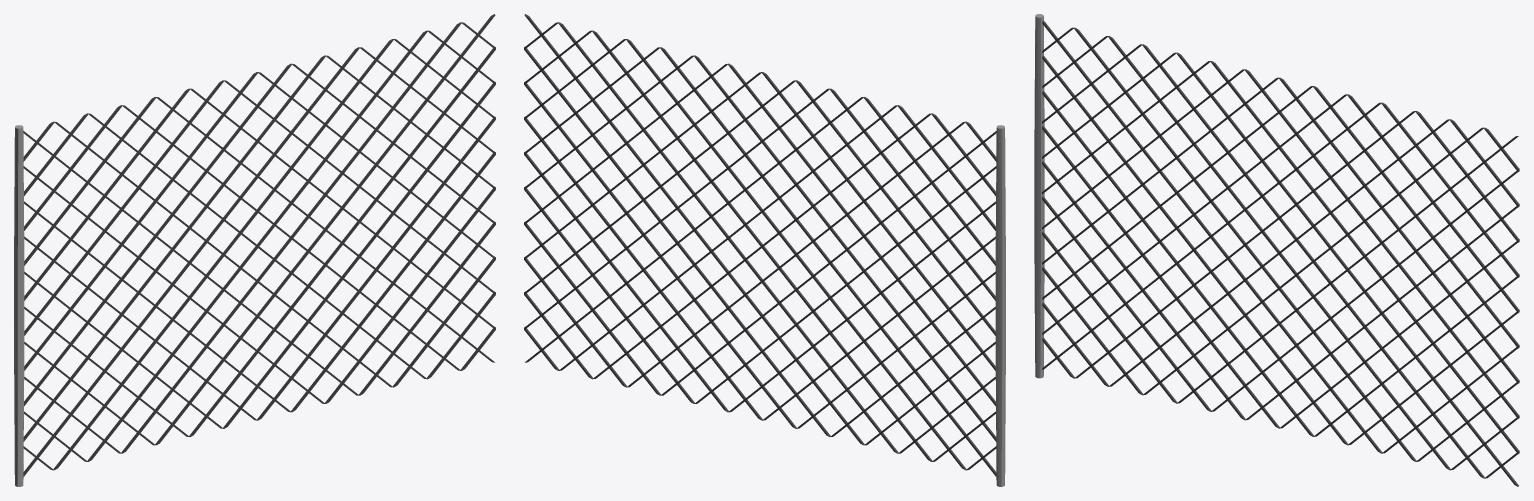
The model's file is fence_straight.fbx.
3 renders of one model, left to right at view 1: azimuth 30°, elevation 25°; view 2: azimuth 150°, elevation 25°; view 3: azimuth 330°, elevation 25°, orthographic.
Visible parts, largest first — view 1: net, pole; view 2: net, pole; view 3: net, pole.
Part boxes in pixels (bbox=[...]): net: bbox=[23, 14, 495, 476]; pole: bbox=[14, 125, 24, 486]; net: bbox=[524, 14, 996, 476]; pole: bbox=[995, 125, 1005, 486]; net: bbox=[1042, 21, 1519, 486]; pole: bbox=[1034, 14, 1044, 378].
Size of the model in its own units: 100 by 71.46 by 1.55.
